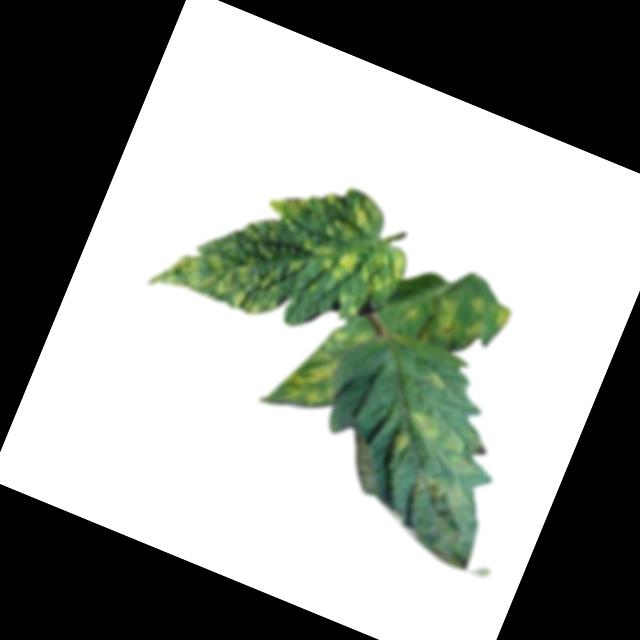Leaf_Mold: (147, 134, 425, 372), (374, 404, 497, 521), (259, 312, 360, 430), (416, 275, 514, 367), (420, 364, 453, 396)
